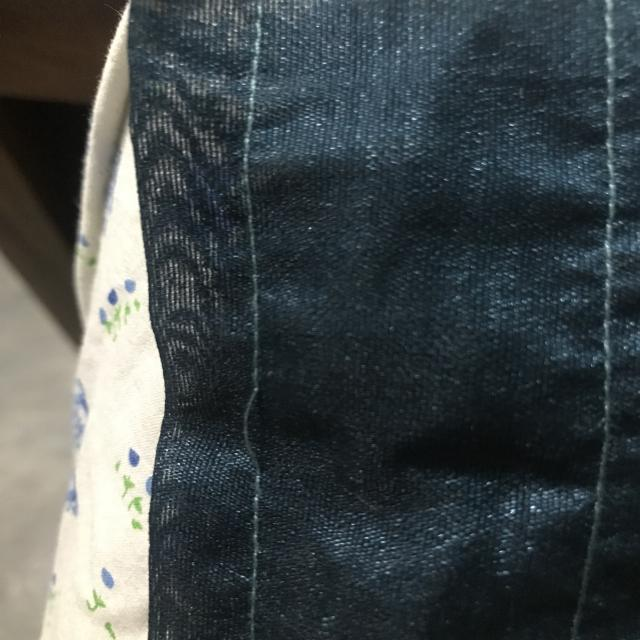skip: (217, 373, 284, 477)
